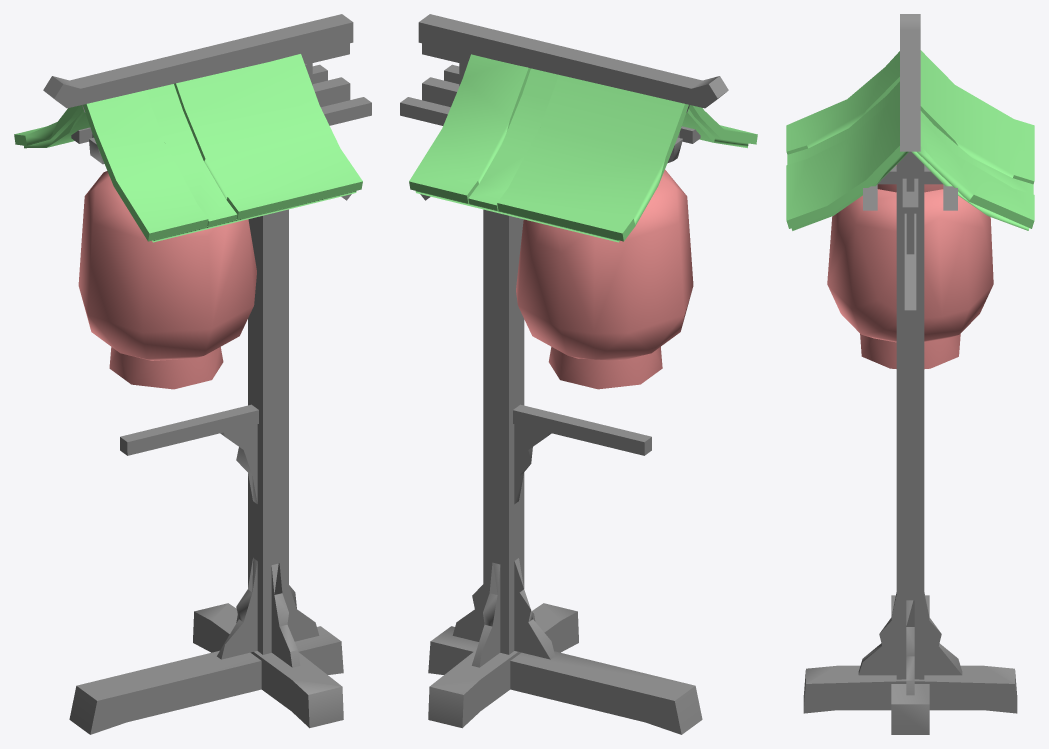
File: SM_ENV_LKNVLD_InnSignboard_B_Lod3.gltf
3 renders of one model, left to right at view 1: azimuth 30°, elevation 25°; view 2: azimuth 150°, elevation 25°; view 3: azimuth 270°, elevation 25°, orthographic. The views are drawn at different scales.
Parts seen in each view (by area): view 1: SM_ENV_LKNVLD_InnSignboard_B_Lod3; view 2: SM_ENV_LKNVLD_InnSignboard_B_Lod3; view 3: SM_ENV_LKNVLD_InnSignboard_B_Lod3.
Boxes of the visible parts, bbox=[...] form: SM_ENV_LKNVLD_InnSignboard_B_Lod3: bbox=[14, 14, 371, 734]; SM_ENV_LKNVLD_InnSignboard_B_Lod3: bbox=[400, 14, 757, 734]; SM_ENV_LKNVLD_InnSignboard_B_Lod3: bbox=[786, 14, 1034, 734].
Bounding box in the file's own units: 1.29 × 2.67 × 1.
